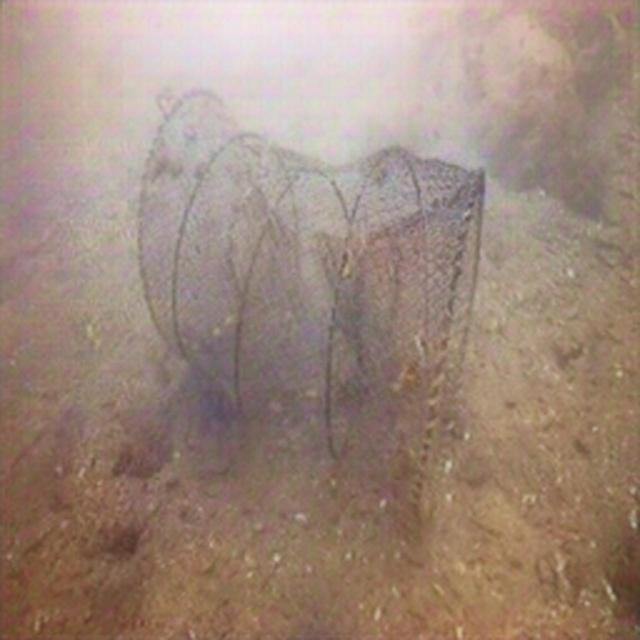mine: (136, 86, 485, 524)
